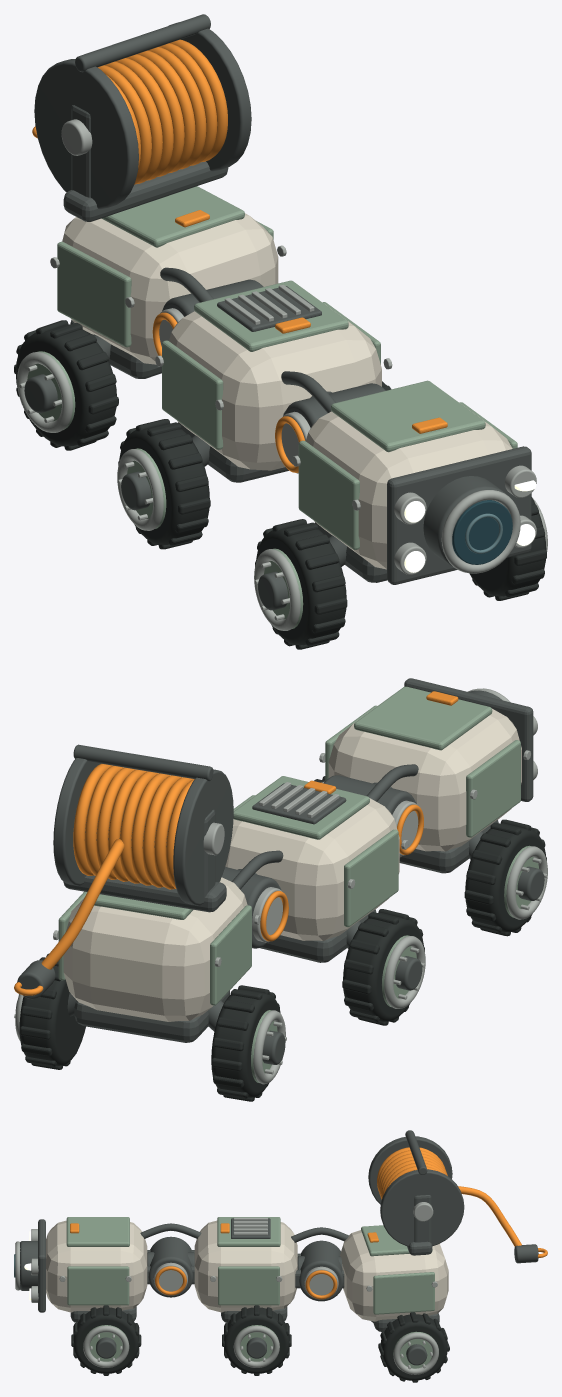
File: pipe_inspection_robot.glb
3 renders of one model, top to bottom at view 1: azimuth 30°, elevation 25°; view 2: azimuth 150°, elevation 25°; view 3: azimuth 270°, elevation 25°, orthographic. The views are drawn at different scales.
Visible parts, largest first — view 1: Module 1 ivory capsule, Module 2 ivory capsule, Reel flange -0.3, Module 0 ivory capsule, Camera forward mounting plate, Module 0 sage top access hatch, Module 2 side inset -1, Module 2 wheel -1 tire, Module 0 side inset -1, Module 1 side inset -1, Module 2 sage top access hatch, Module 1 wheel -1 tire (+35 smaller); view 2: Module 2 ivory capsule, Module 0 ivory capsule, Module 1 ivory capsule, Reel flange -0.3, Module 0 sage top access hatch, Module 0 side inset -1, Module 1 side inset -1, Module 0 wheel -1 tire, Module 1 wheel -1 tire, Module 2 wheel 1 tire, Module 2 wheel -1 tire, Module 1 sage top access hatch (+37 smaller); view 3: Module 1 ivory capsule, Module 0 ivory capsule, Module 2 ivory capsule, Reel flange 0.3, Module 0 side inset 1, Module 1 side inset 1, Module 2 side inset 1, Module 0 sage top access hatch, Module 0 wheel 1 tire, Module 1 wheel 1 tire, Module 2 wheel 1 tire, Universal joint cross pivot 1 (+27 smaller).
Boxes of the visible parts, x1,y1,x2,y2 form: Module 1 ivory capsule: [169, 294, 381, 470]; Module 2 ivory capsule: [62, 213, 278, 364]; Reel flange -0.3: [34, 59, 138, 209]; Module 0 ivory capsule: [306, 406, 512, 569]; Camera forward mounting plate: [387, 446, 531, 584]; Module 0 sage top access hatch: [331, 380, 485, 452]; Module 2 side inset -1: [57, 241, 131, 347]; Module 2 wheel -1 tire: [15, 324, 116, 446]; Module 0 side inset -1: [298, 440, 359, 549]; Module 1 side inset -1: [162, 340, 223, 449]; Module 2 sage top access hatch: [101, 186, 244, 247]; Module 1 wheel -1 tire: [119, 423, 209, 544]; Module 2 ivory capsule: [63, 877, 247, 1021]; Module 0 ivory capsule: [328, 699, 521, 851]; Module 1 ivory capsule: [225, 784, 399, 940]; Reel flange -0.3: [173, 769, 233, 905]; Module 0 sage top access hatch: [354, 686, 492, 750]; Module 0 side inset -1: [466, 740, 520, 837]; Module 1 side inset -1: [344, 829, 398, 927]; Module 0 wheel -1 tire: [465, 823, 546, 932]; Module 1 wheel -1 tire: [343, 913, 423, 1021]; Module 2 wheel 1 tire: [19, 966, 85, 1065]; Module 2 wheel -1 tire: [211, 989, 280, 1097]; Module 1 sage top access hatch: [233, 776, 369, 839]; Module 1 ivory capsule: [194, 1220, 297, 1312]; Module 0 ivory capsule: [46, 1220, 147, 1312]; Module 2 ivory capsule: [340, 1230, 448, 1321]; Reel flange 0.3: [380, 1169, 464, 1246]; Module 0 side inset 1: [67, 1266, 129, 1305]; Module 1 side inset 1: [218, 1266, 279, 1305]; Module 2 side inset 1: [373, 1272, 434, 1314]; Module 0 sage top access hatch: [66, 1217, 129, 1246]; Module 0 wheel 1 tire: [73, 1307, 138, 1373]; Module 1 wheel 1 tire: [224, 1307, 289, 1373]; Module 2 wheel 1 tire: [380, 1314, 447, 1380]; Universal joint cross pivot 1: [299, 1240, 343, 1301].
Bounding box in the file's own units: 1.43 × 1.7 × 4.04.
